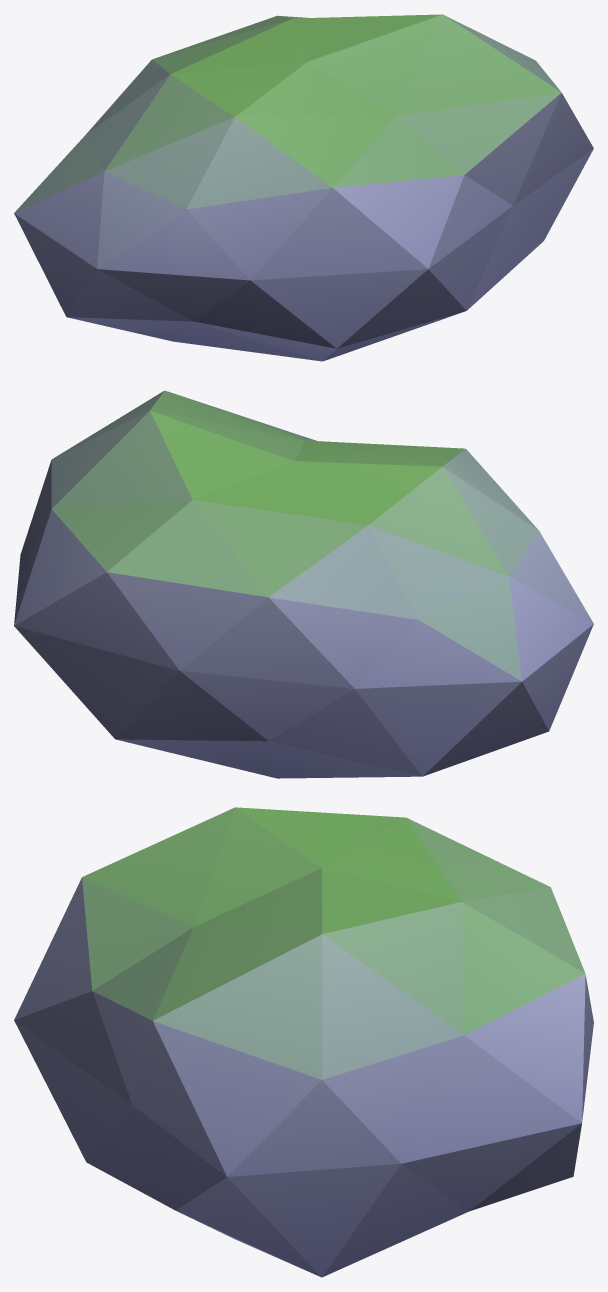
File: verdant_rock_test.glb
3 renders of one model, top to bottom at view 1: azimuth 30°, elevation 25°; view 2: azimuth 150°, elevation 25°; view 3: azimuth 270°, elevation 25°, orthographic. The views are drawn at different scales.
Visible parts, largest first — view 1: verdant_rock_test; view 2: verdant_rock_test; view 3: verdant_rock_test.
Part boxes in pixels (x1,y1,x2,y2): verdant_rock_test: (14, 14, 593, 361); verdant_rock_test: (14, 390, 593, 778); verdant_rock_test: (14, 807, 593, 1277).
Bounding box in the file's own units: 2.59 × 1.29 × 2.03.
